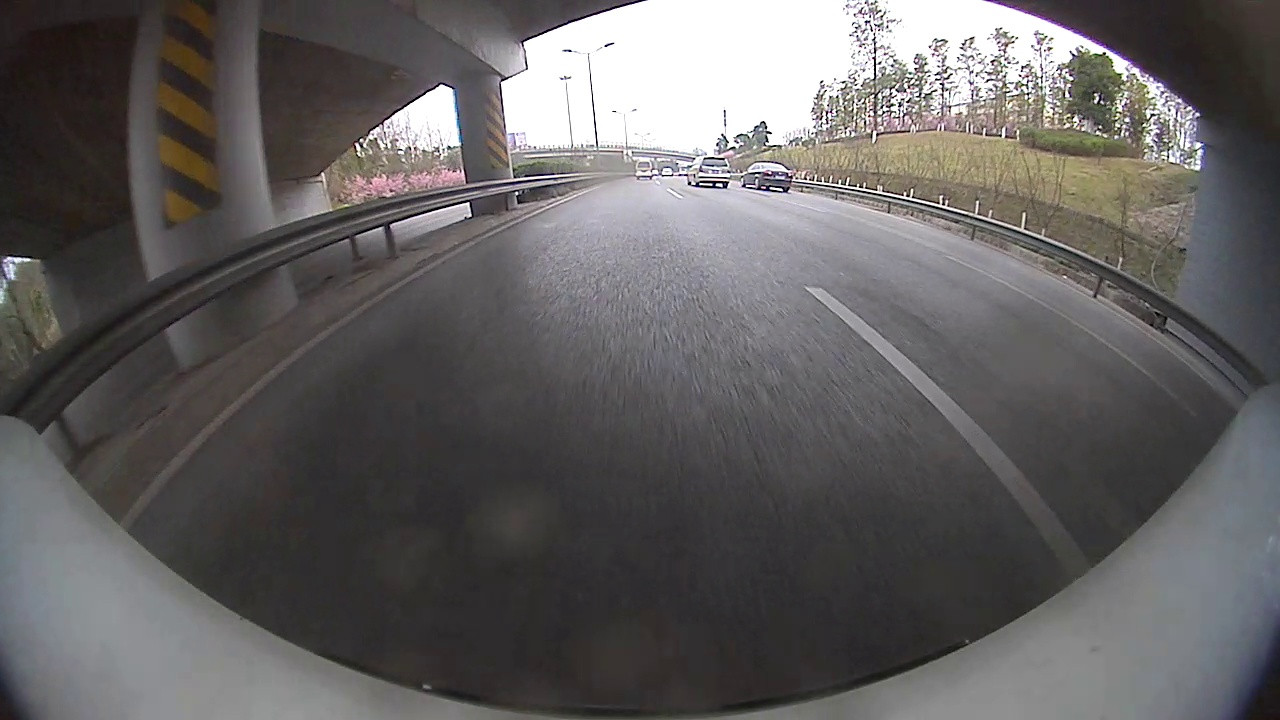car: (737, 160, 793, 193), (686, 154, 731, 188), (634, 159, 654, 180)
